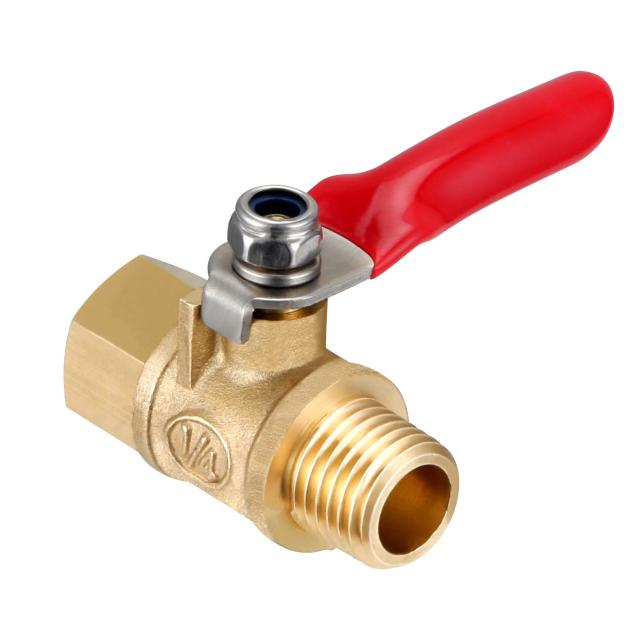Lever Handle Valve Threaded: (54, 62, 635, 384)
